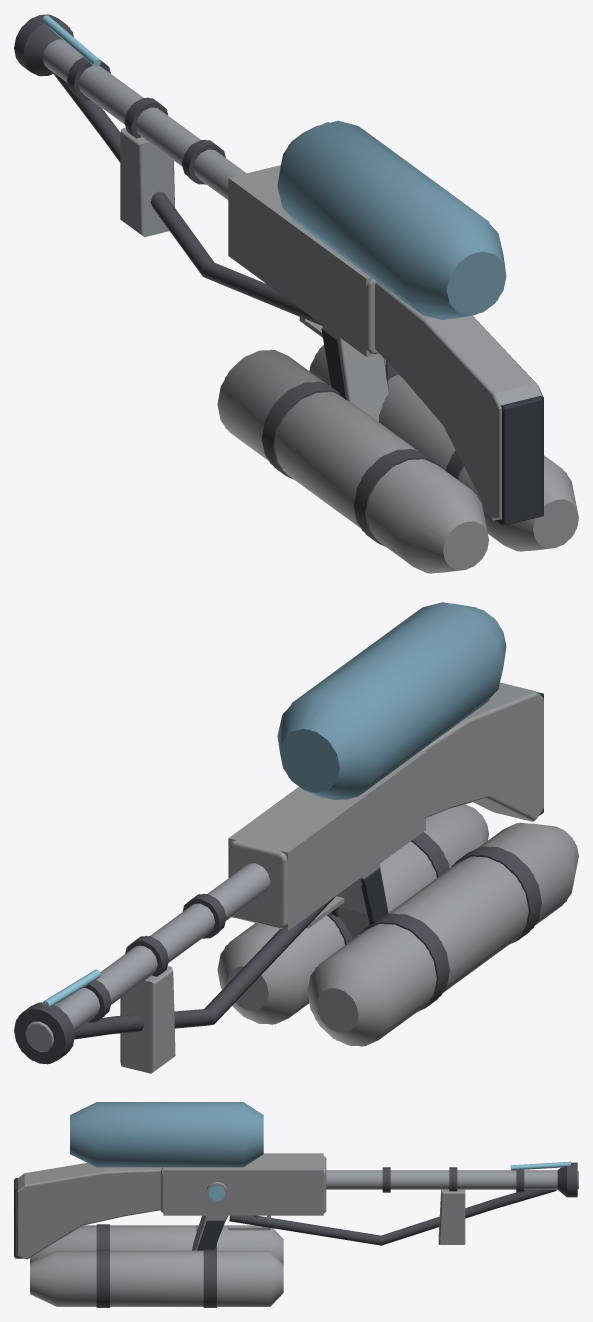
The model's file is f_cryo.glb.
3 views of the same model, one above another, from view 1: azimuth 30°, elevation 25°; view 2: azimuth 150°, elevation 25°; view 3: azimuth 270°, elevation 25° (orthographic). The views are drawn at different scales.
Parts seen in each view (by area): view 1: L0, L1; view 2: L0, L1; view 3: L0, L1.
Boxes of the visible parts, box(x1,y1,x2,y2) form: L0: box(14, 14, 578, 573); L1: box(18, 14, 578, 573); L0: box(14, 602, 578, 1073); L1: box(14, 603, 574, 1064); L0: box(14, 1102, 578, 1307); L1: box(15, 1104, 577, 1304).
Size of the model in its own units: 0.1777 by 0.3107 by 0.8458.
